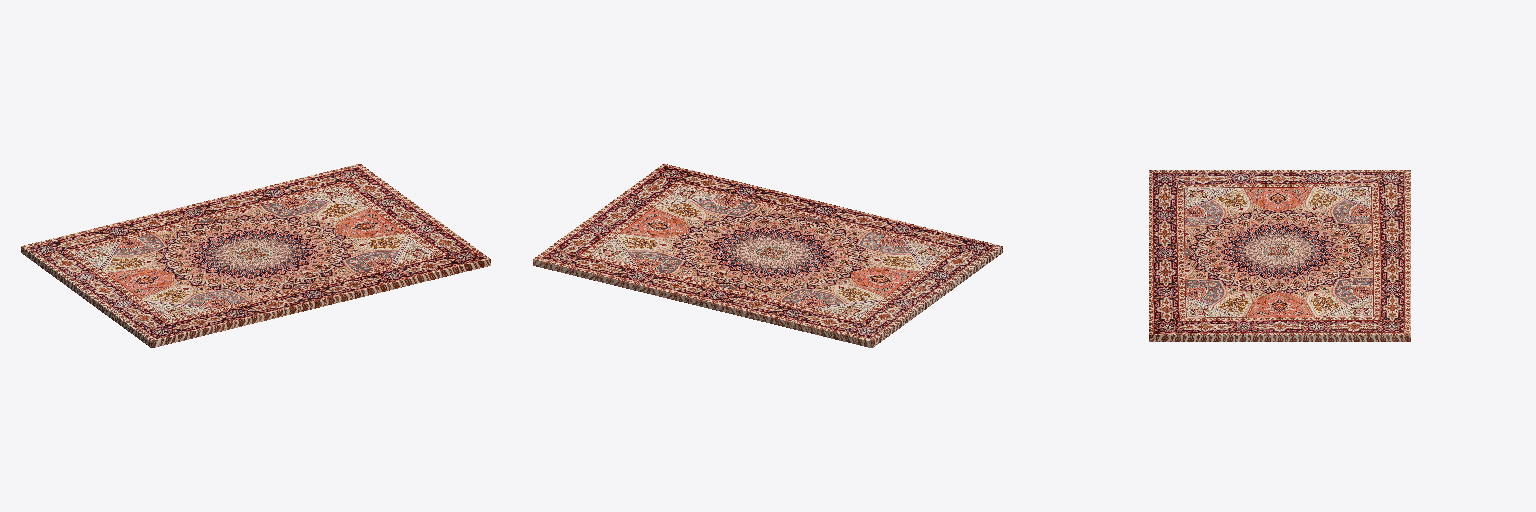
3 views of the same model, side by side, from view 1: azimuth 30°, elevation 25°; view 2: azimuth 150°, elevation 25°; view 3: azimuth 270°, elevation 25° (orthographic).
Visible parts, largest first — view 1: Cube.003; view 2: Cube.003; view 3: Cube.003.
Part boxes in pixels (bbox=[...]): Cube.003: bbox=[21, 164, 490, 347]; Cube.003: bbox=[533, 164, 1002, 347]; Cube.003: bbox=[1149, 170, 1410, 341].
Size of the model in its own units: 5.56 by 0.1036 by 3.71.
Materials: 1 (1 with a texture image).